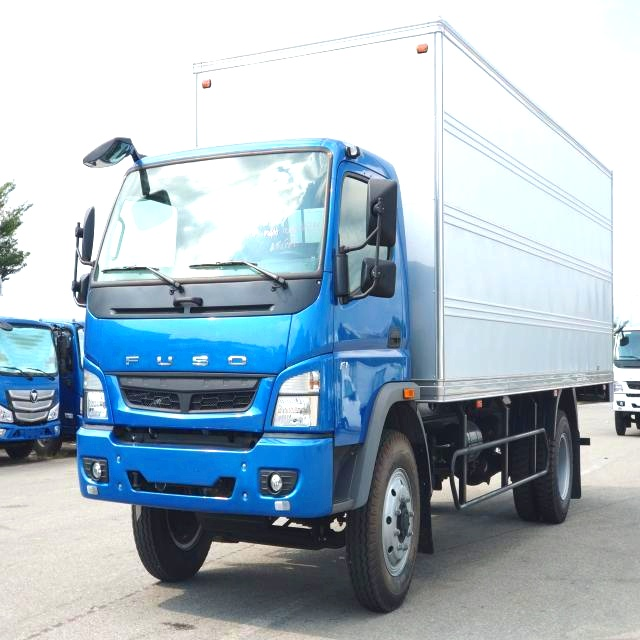truck: (54, 15, 630, 608)
